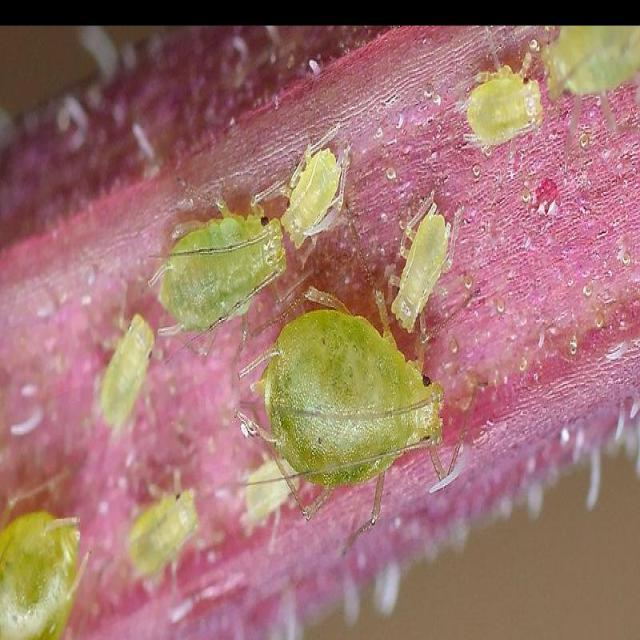aphid: (234, 268, 492, 516), (155, 189, 288, 344), (372, 193, 469, 364), (272, 118, 358, 279), (452, 34, 553, 168), (115, 482, 208, 588)
